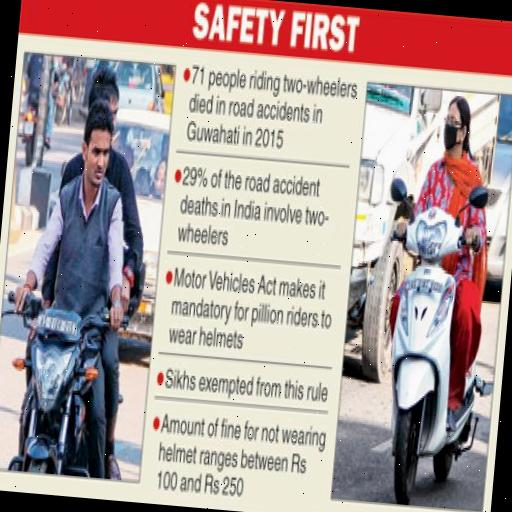no helmet: (372, 80, 500, 494), (20, 90, 132, 462)
